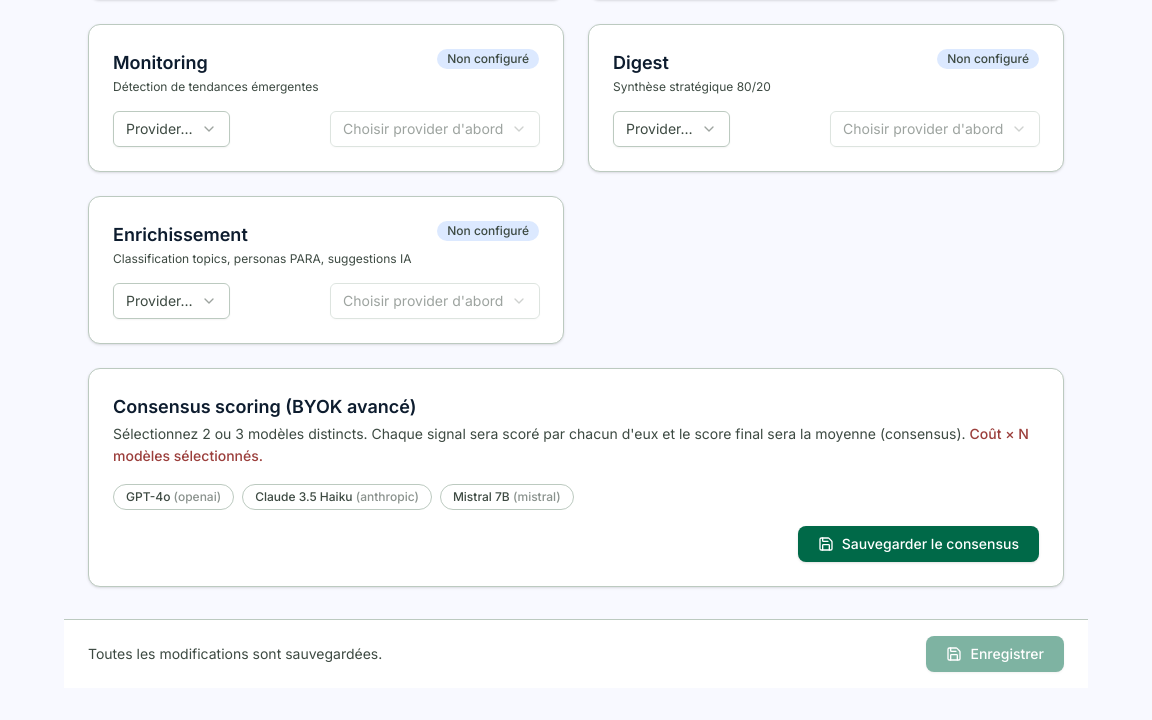
Test case: Settings — consensus scoring › sélectionner exactement 1 modèle affiche une erreur de validation
The image size is (1152, 720).
(page scrolled)
Click the button "GPT-4o (openai)": (174, 497) x1=113 y1=484 x2=234 y2=510
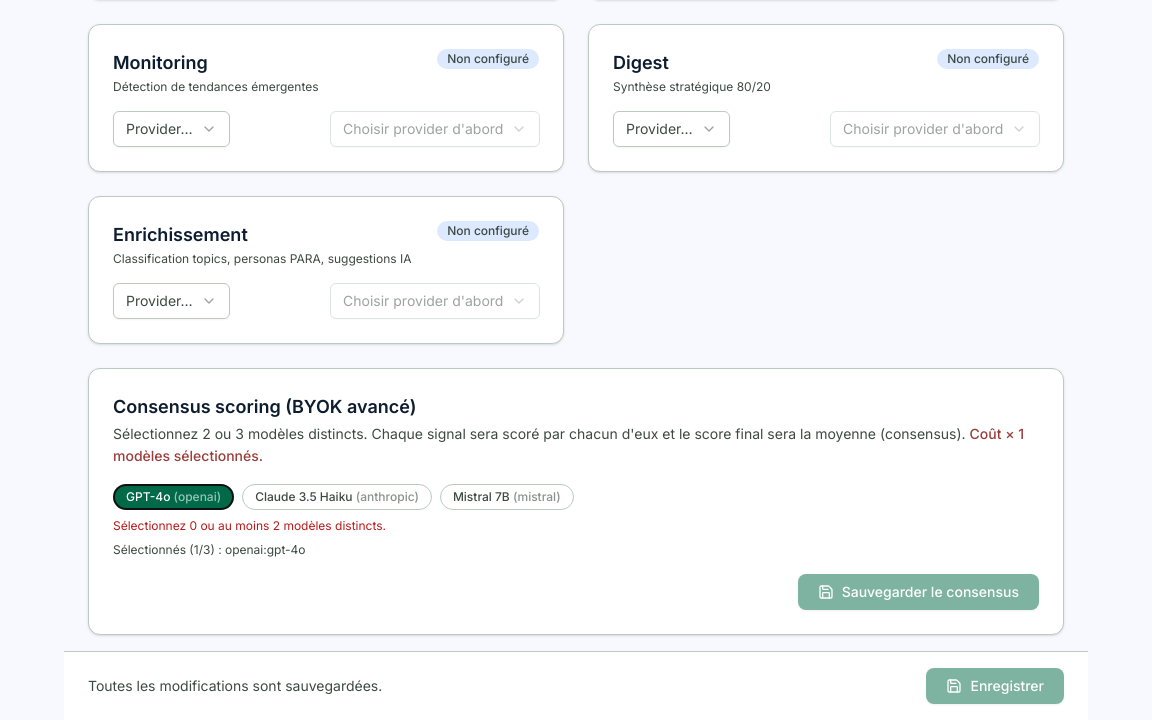
Check: the text "Sélectionnez 0 ou au moins 2 modèles distincts." is shown, box x1=113 y1=518 x2=386 y2=533
Check: the button "Sauvegarder le consensus" is disabled, box x1=798 y1=574 x2=1039 y2=610
